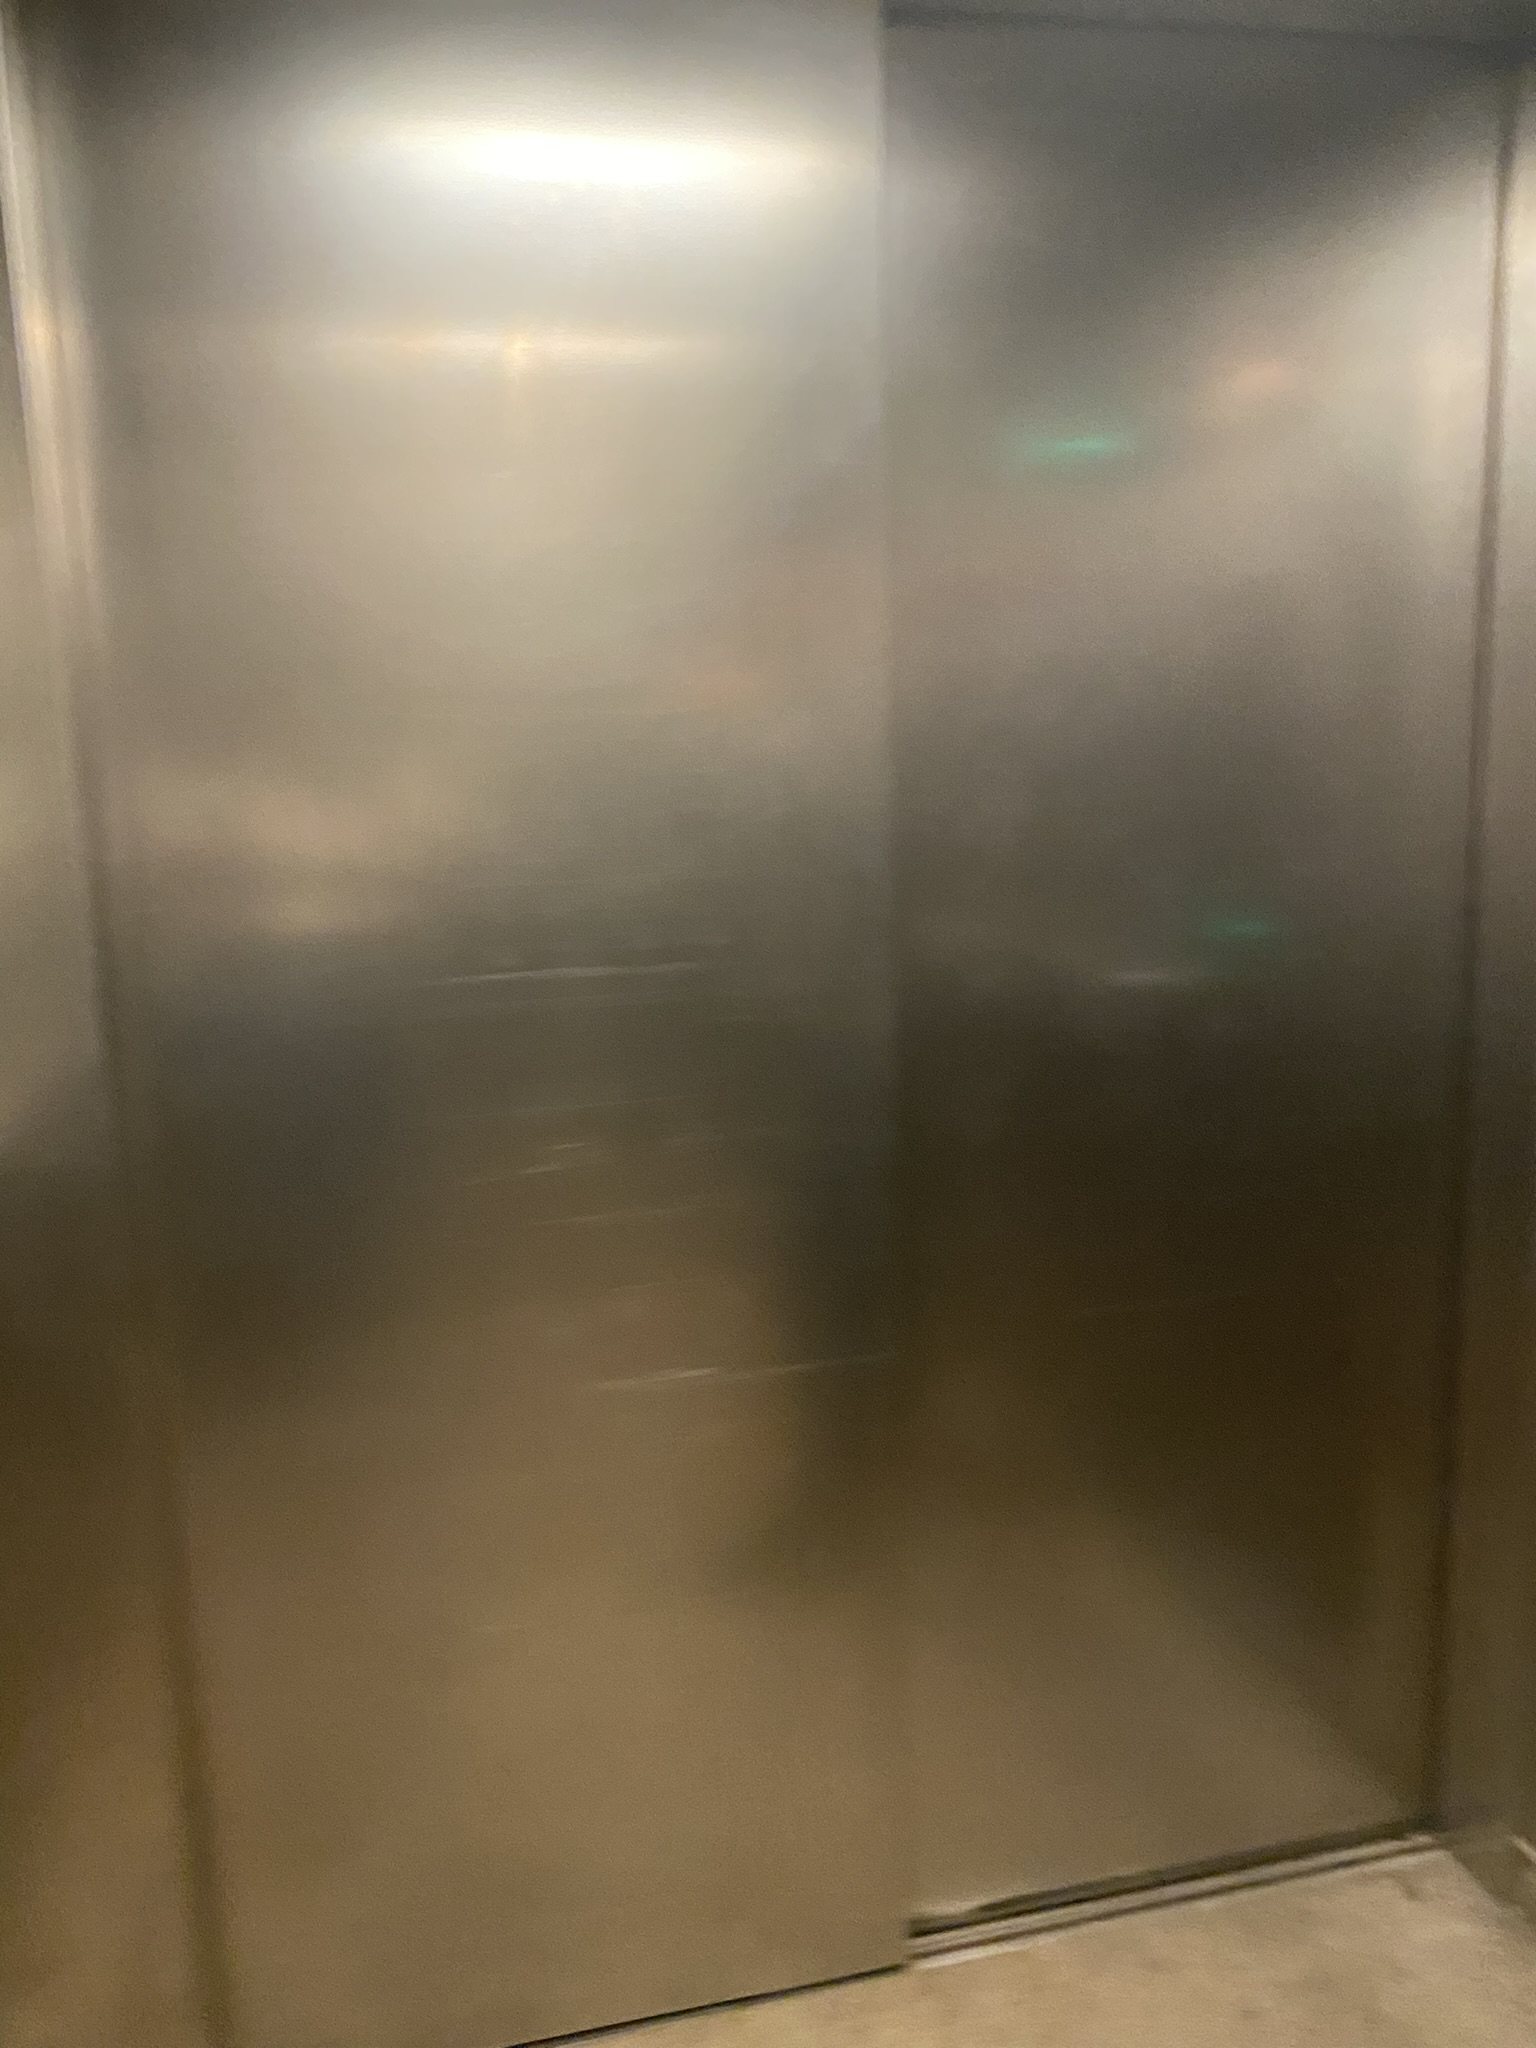lift door: (10, 15, 1528, 1534)
